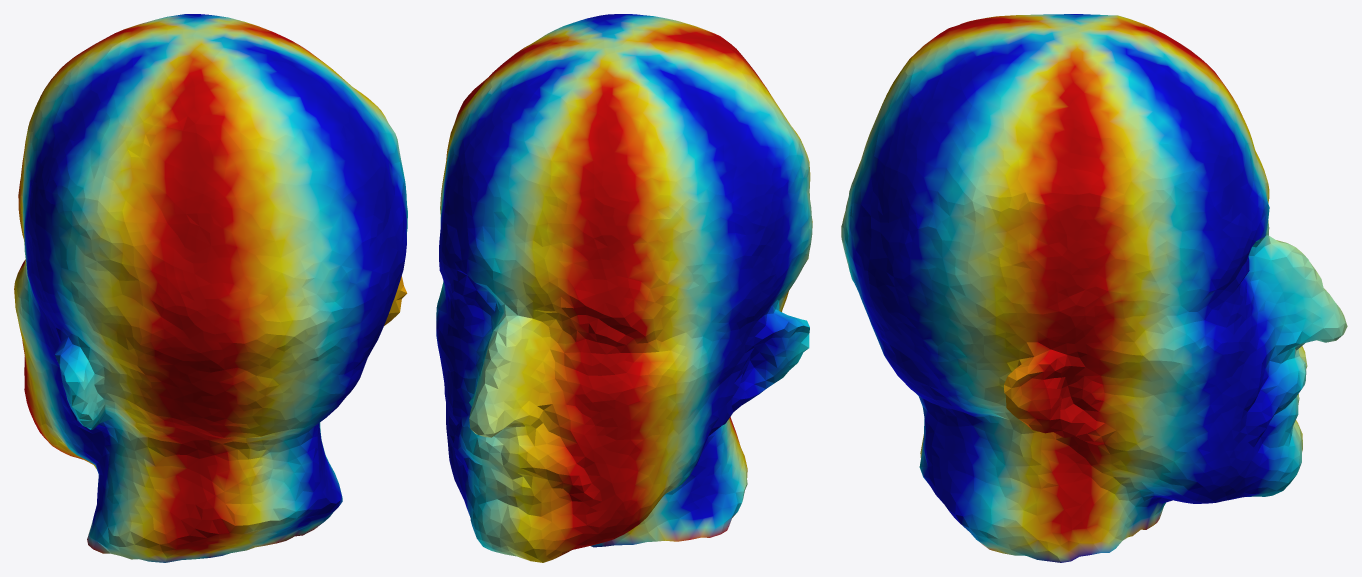
Rendered from max_boundary_sin.glb.
3 renders of one model, left to right at view 1: azimuth 30°, elevation 25°; view 2: azimuth 150°, elevation 25°; view 3: azimuth 270°, elevation 25°, orthographic. The views are drawn at different scales.
Visible parts, largest first — view 1: max_boundary_2.obj; view 2: max_boundary_2.obj; view 3: max_boundary_2.obj.
Boxes of the visible parts, bbox=[...] form: max_boundary_2.obj: bbox=[14, 14, 407, 562]; max_boundary_2.obj: bbox=[436, 14, 812, 562]; max_boundary_2.obj: bbox=[841, 14, 1347, 562].
Bounding box in the file's own units: 1.27 × 1.7 × 1.62.
